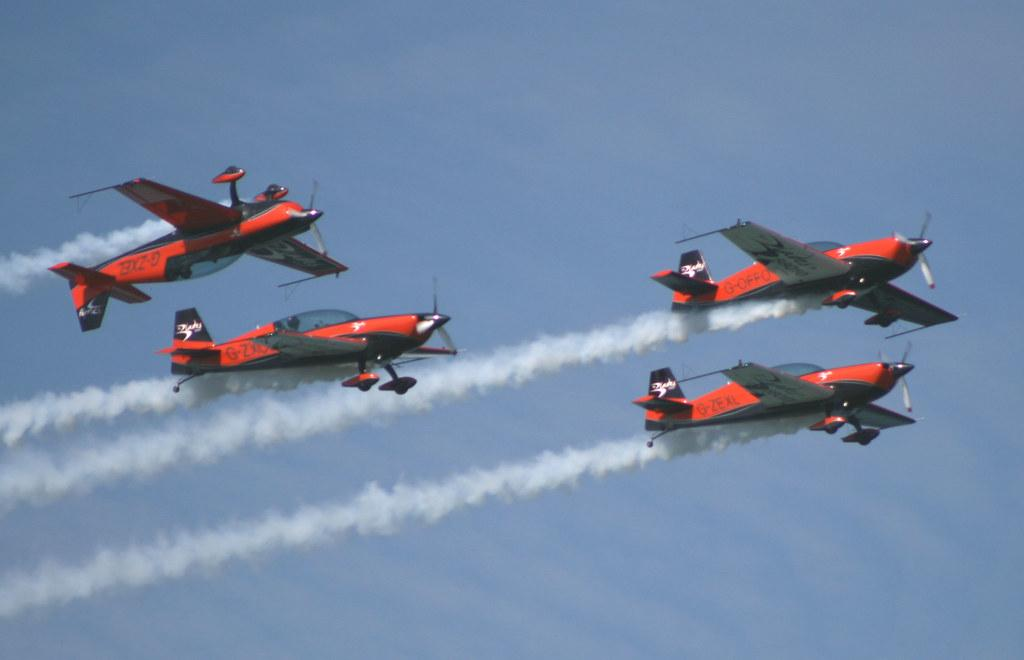plane: (48, 164, 350, 333), (650, 211, 960, 338), (155, 284, 460, 396), (631, 342, 919, 449)
